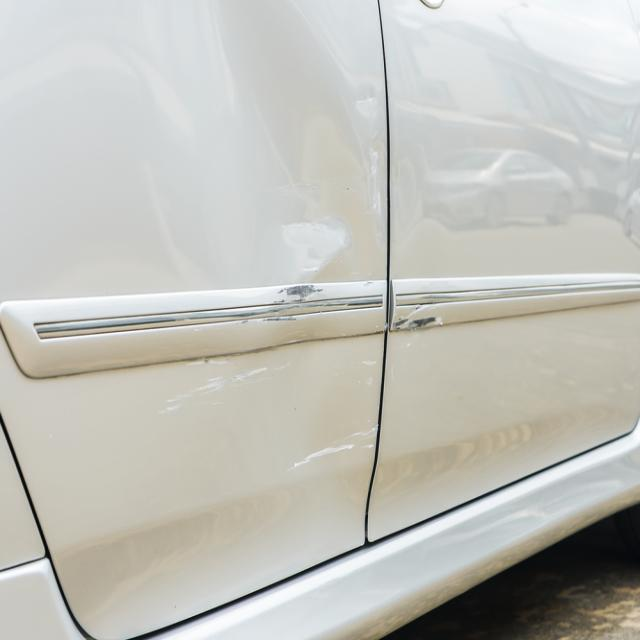dent: (146, 0, 370, 284)
scratch: (162, 279, 379, 467), (393, 298, 446, 334)
